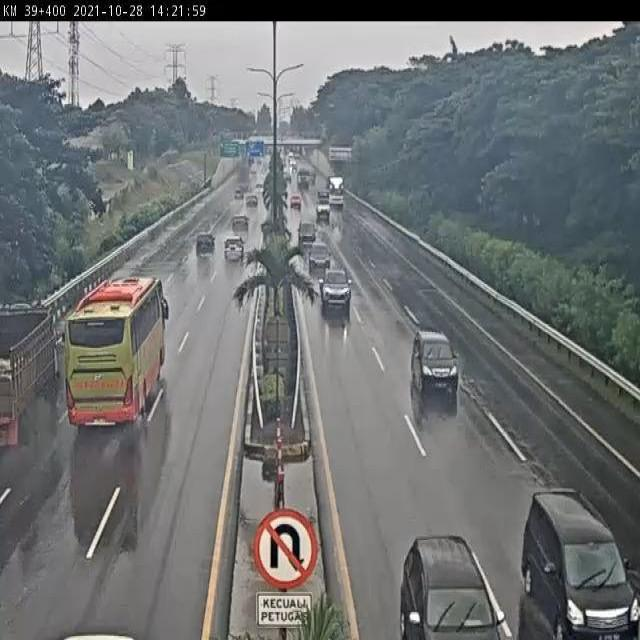big bus: (65, 276, 167, 436)
car: (521, 488, 640, 640), (402, 536, 501, 640), (410, 328, 461, 400), (319, 266, 352, 306), (192, 231, 217, 264), (309, 239, 332, 272), (222, 235, 246, 264), (297, 218, 317, 245), (231, 213, 251, 236)
truck-l-: (0, 305, 64, 440)
